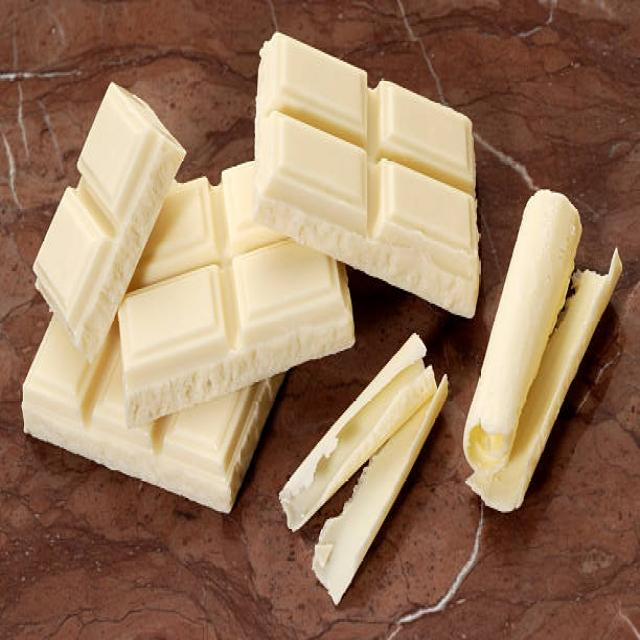chocolate: (119, 145, 359, 433), (255, 26, 482, 323), (28, 80, 188, 371)
